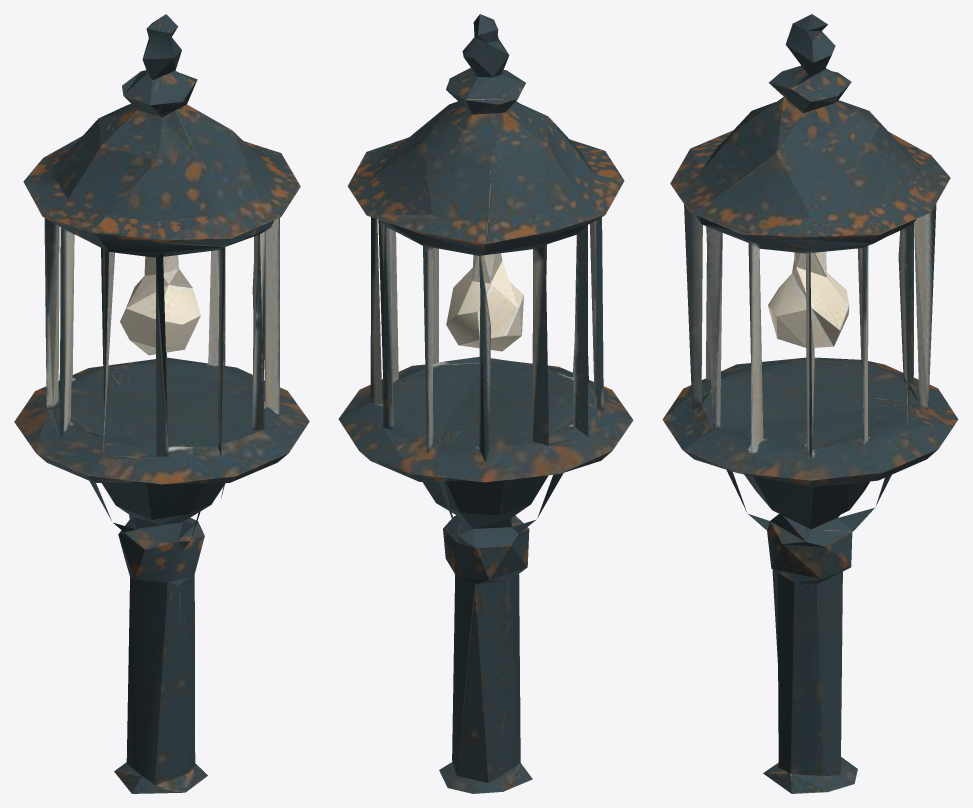
Rendered from streetLamp.glb.
The picture shows the model from 3 angles, left to right: view 1: azimuth 30°, elevation 25°; view 2: azimuth 150°, elevation 25°; view 3: azimuth 270°, elevation 25°; orthographic projection.
Bounding box in the file's own units: 0.6581 × 1.9 × 0.6658.
1 material, 1 textured.
